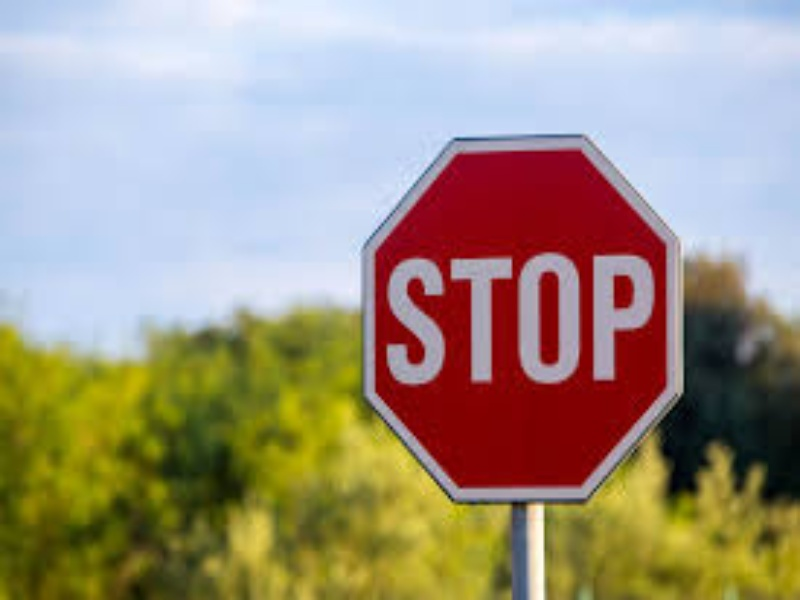Stop_Sign: (366, 133, 676, 499)
